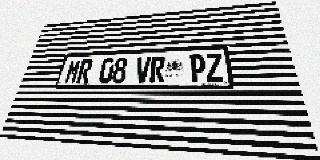0: (98, 58, 115, 83)
8: (111, 57, 128, 83)
M: (64, 60, 82, 84)
P: (189, 54, 206, 82)
R: (76, 59, 94, 84), (149, 56, 165, 83)
V: (135, 56, 151, 83)
Z: (205, 53, 224, 82)
